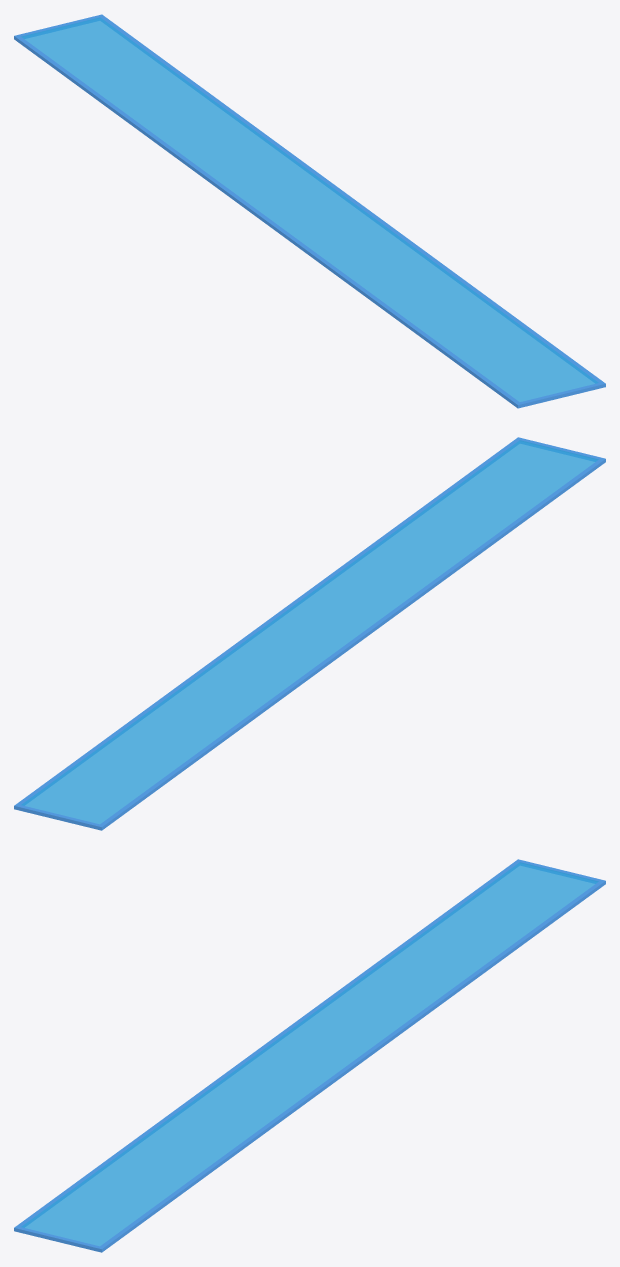
File: effect.glb
3 renders of one model, top to bottom at view 1: azimuth 30°, elevation 25°; view 2: azimuth 150°, elevation 25°; view 3: azimuth 330°, elevation 25°, orthographic.
Parts seen in each view (by area): view 1: 永兴二号出口-空界; view 2: 永兴二号出口-空界; view 3: 永兴二号出口-空界.
Part boxes in pixels (x1,y1,x2,y2): 永兴二号出口-空界: (14,14,605,408); 永兴二号出口-空界: (14,437,605,830); 永兴二号出口-空界: (14,859,605,1252).
Bounding box in the file's own units: 16.08 × 0.6 × 159.
Materials: 2 (2 with a texture image).
